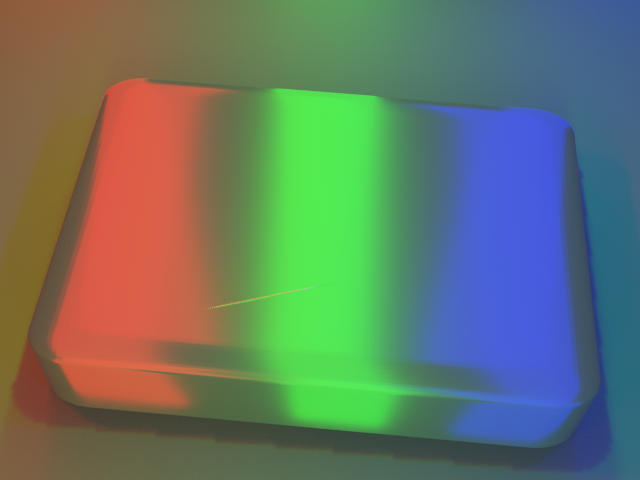scratch: (38, 182, 480, 414)
